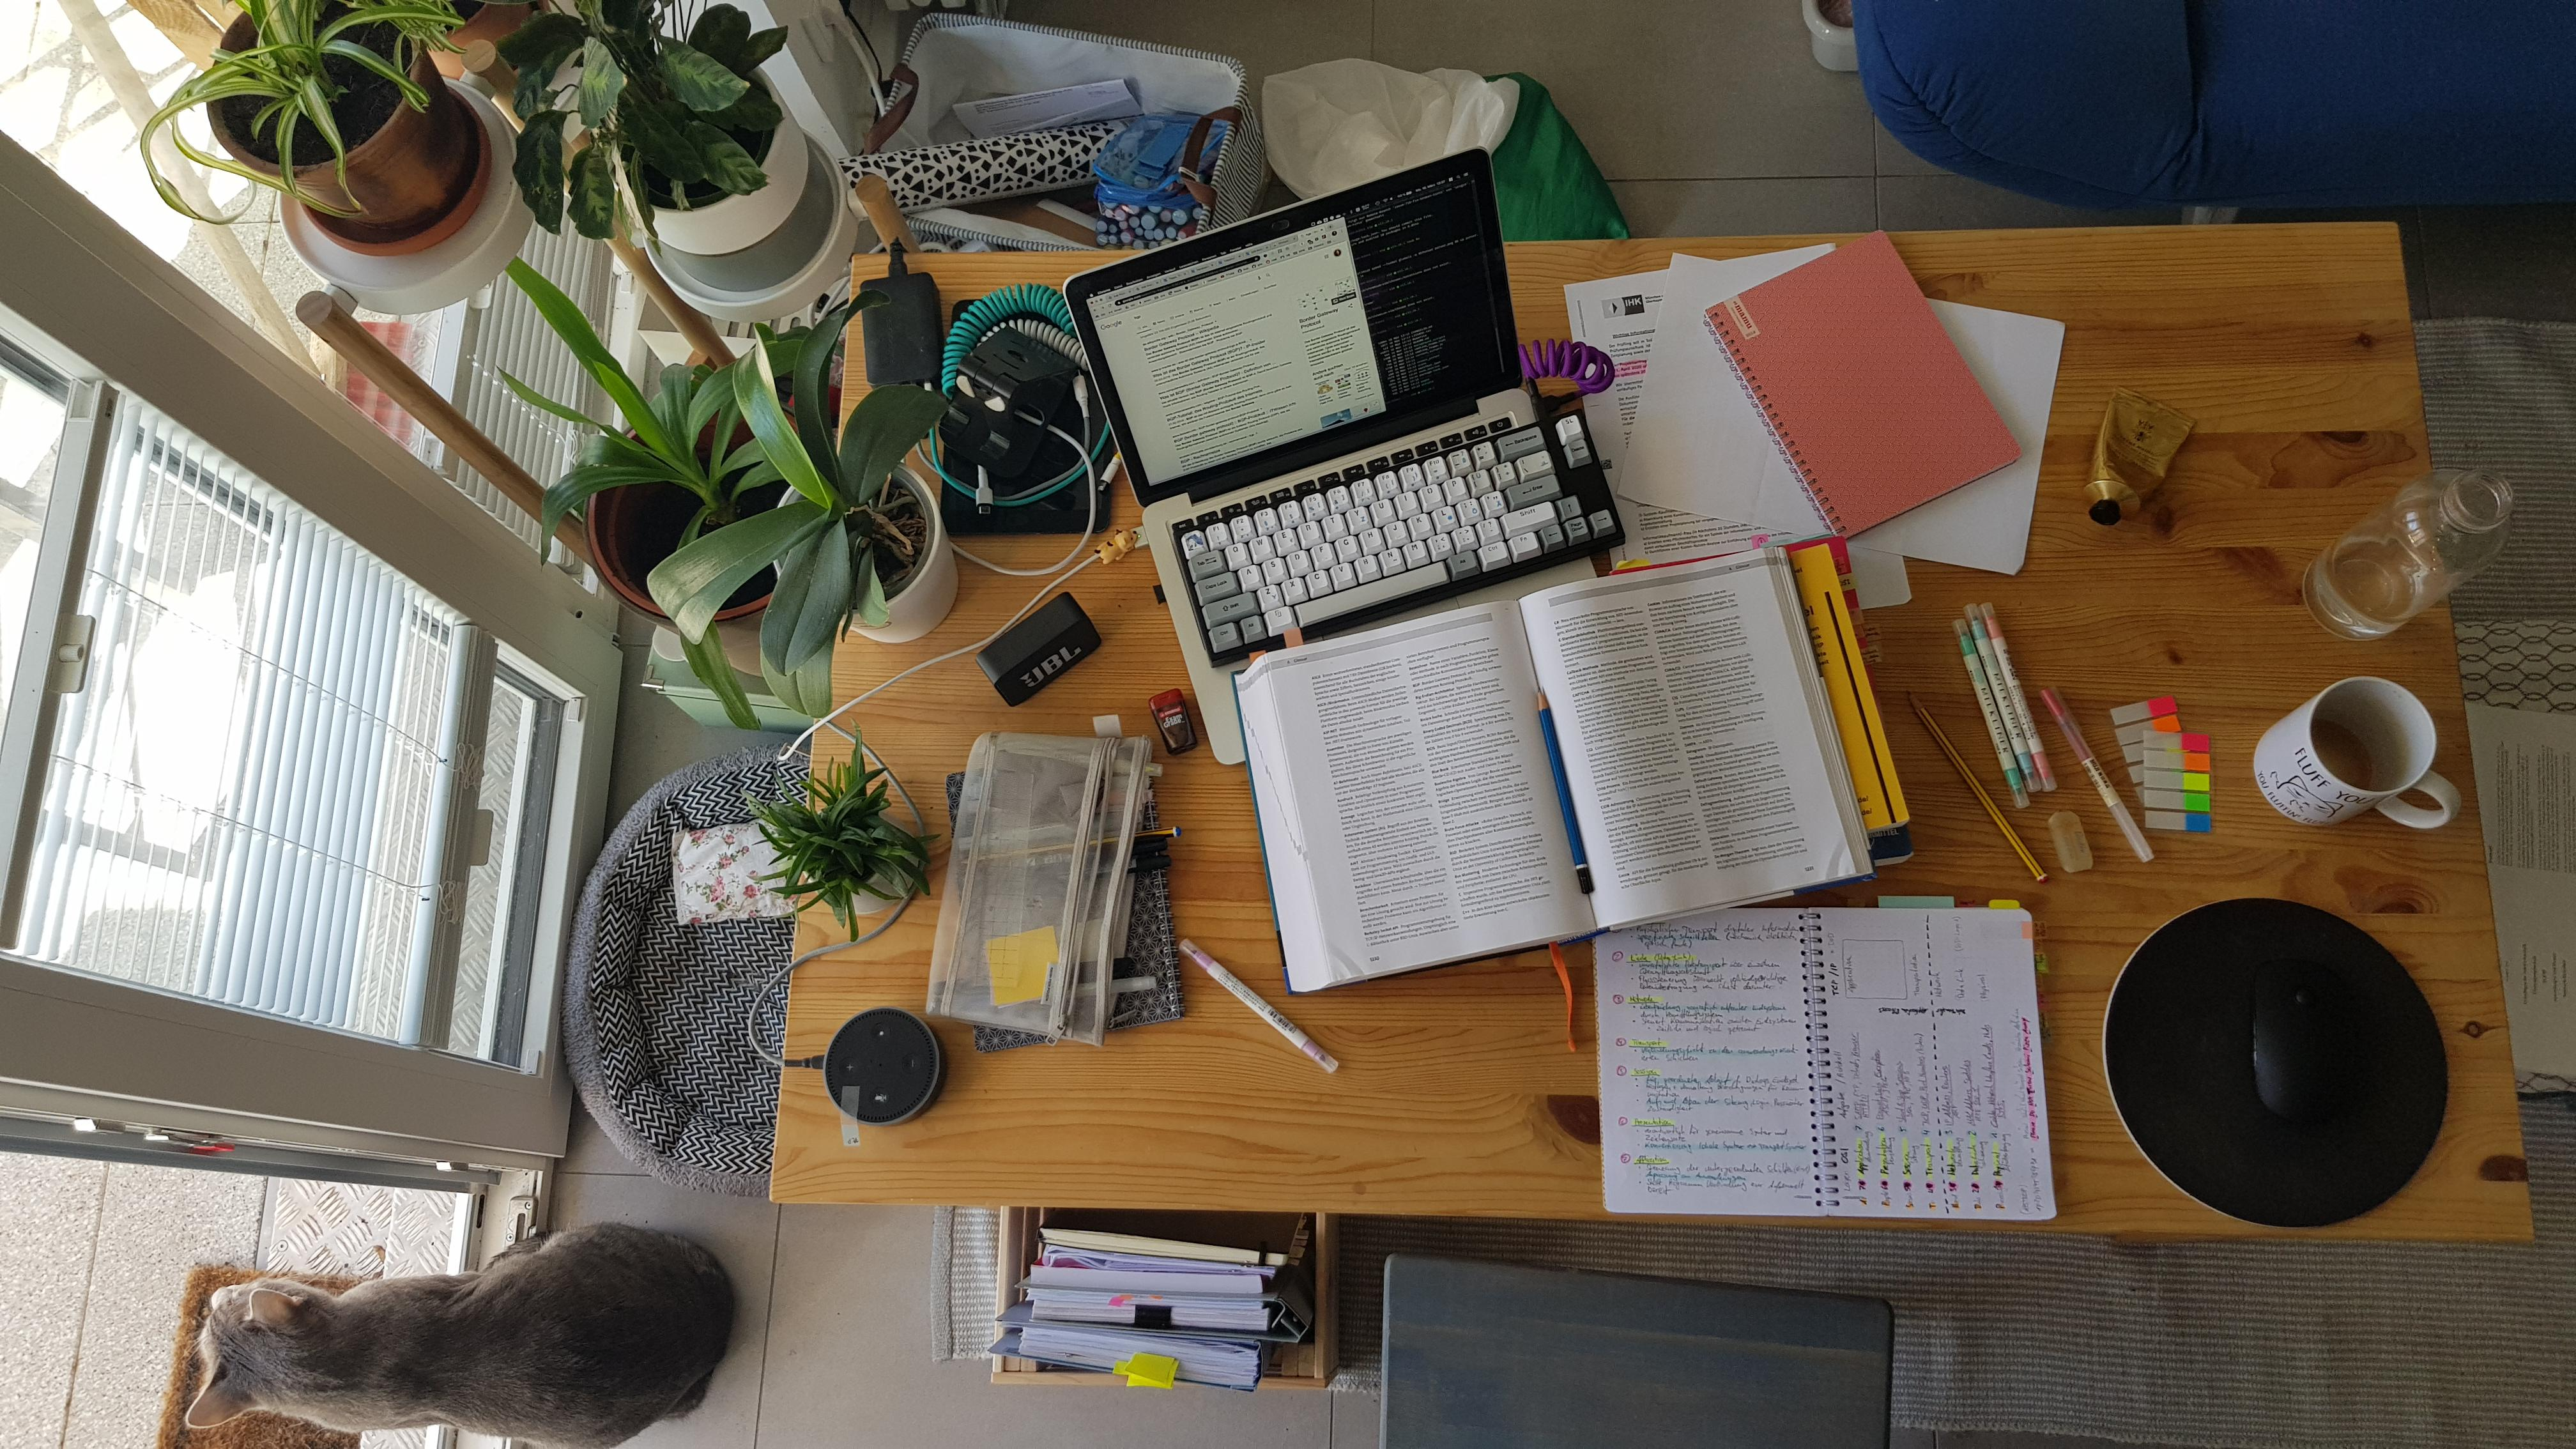Book: (1226, 556, 1854, 1000)
Chair (Generic): (1378, 1251, 1893, 1442)
Decoration (Plant): (184, 0, 513, 313), (543, 0, 872, 313), (564, 359, 826, 625), (704, 391, 966, 656), (766, 757, 938, 927)
Desk (Generic): (766, 219, 2542, 1246)
External Speakers (Generic): (973, 591, 1104, 708)
IoT Devices (Raspberry, Arduino, etc): (819, 1000, 947, 1134)
Keyboard (Generic): (1173, 412, 1626, 669)
Laptop (OSX): (1058, 147, 1598, 766)
Mouse (Generic): (2220, 985, 2381, 1115)
Mousepad (Generic): (2102, 897, 2447, 1231)
Mug: (2247, 674, 2463, 846)
Notebook: (1592, 911, 2035, 1212), (1704, 228, 2024, 543)
USB Hub: (858, 276, 950, 418)
Water Bottle: (2302, 449, 2516, 649)
